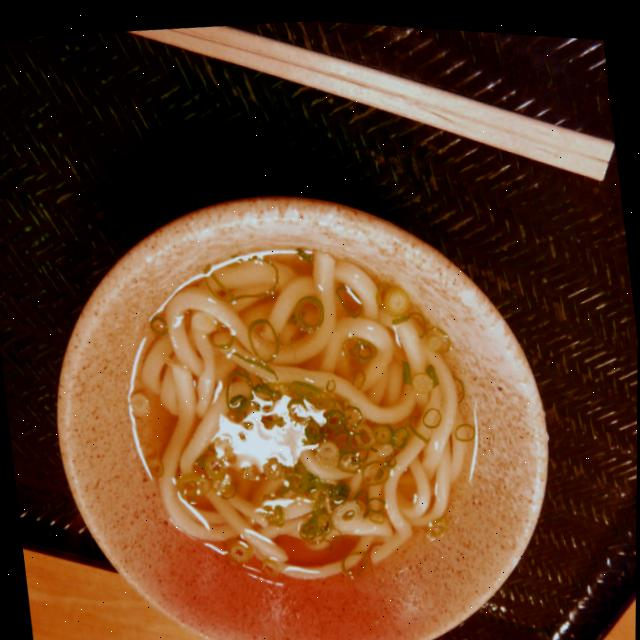面条主食: (10, 142, 596, 640)
